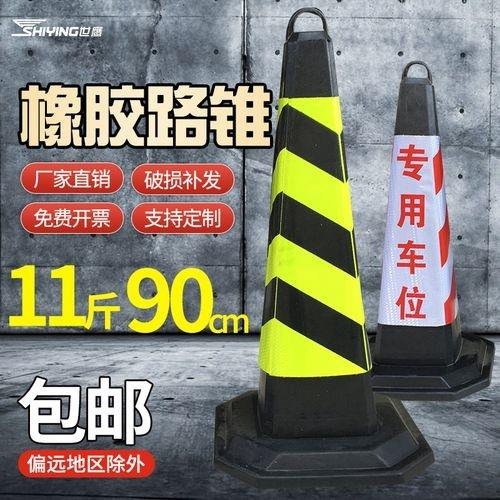cone_barrel: (225, 16, 385, 455), (358, 73, 479, 386)
